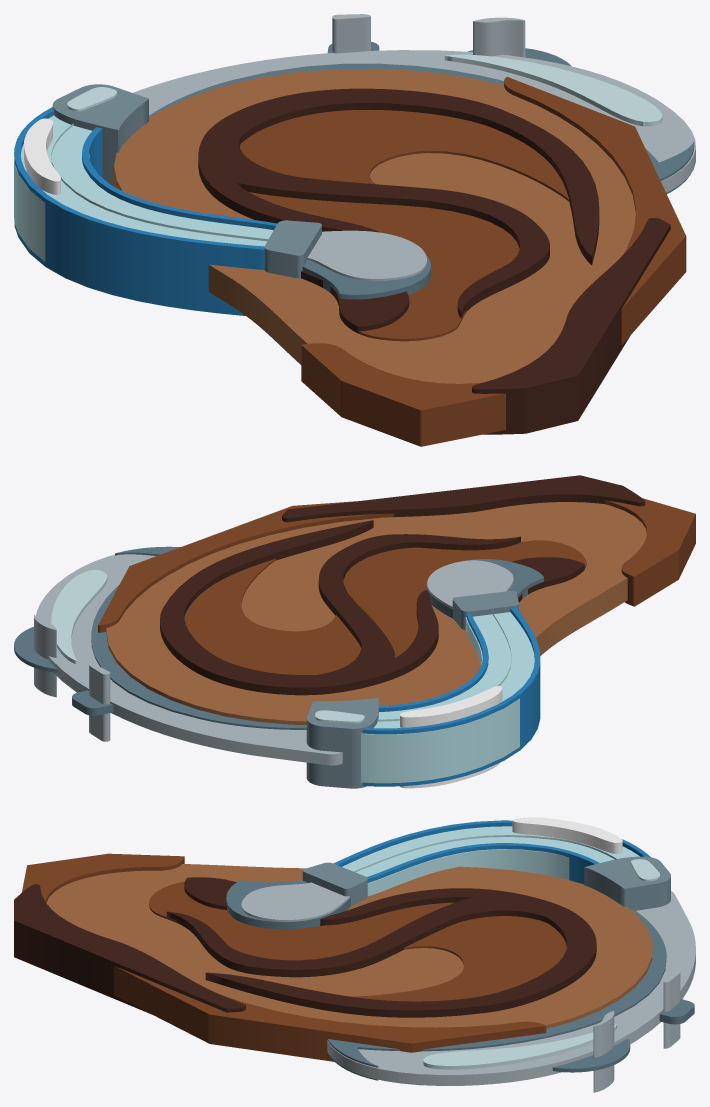
The model's file is emoji_u1f9bb_1f3fe.glb.
The picture shows the model from 3 angles, top to bottom: view 1: azimuth 30°, elevation 25°; view 2: azimuth 150°, elevation 25°; view 3: azimuth 270°, elevation 25°; orthographic projection. The views are drawn at different scales.
Visible parts, largest first — view 1: emoji_u1f9bb_1f3fe; view 2: emoji_u1f9bb_1f3fe; view 3: emoji_u1f9bb_1f3fe.
Part boxes in pixels (<box>): emoji_u1f9bb_1f3fe: <box>14,14,695,446</box>; emoji_u1f9bb_1f3fe: <box>14,475,695,788</box>; emoji_u1f9bb_1f3fe: <box>14,817,695,1092</box>.
Bounding box in the file's own units: 0.0271 × 0.0038 × 0.0336.
